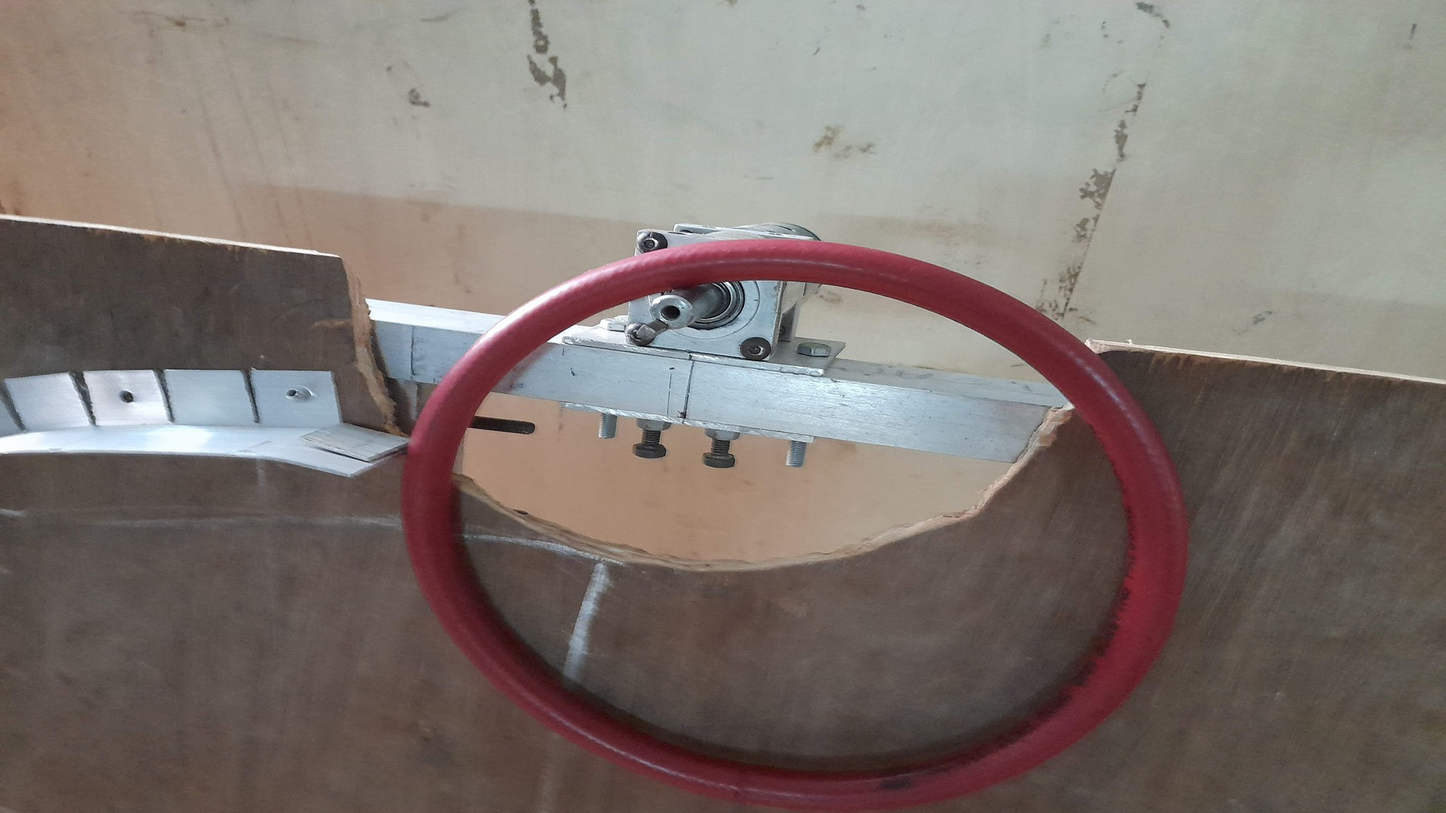Red ring: (410, 245, 1185, 813)
